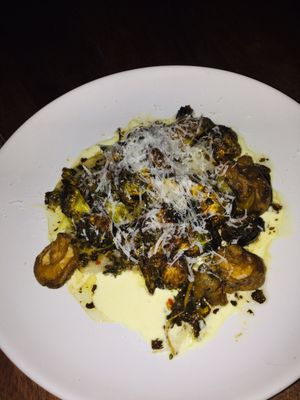sandwich: (36, 105, 286, 359)
